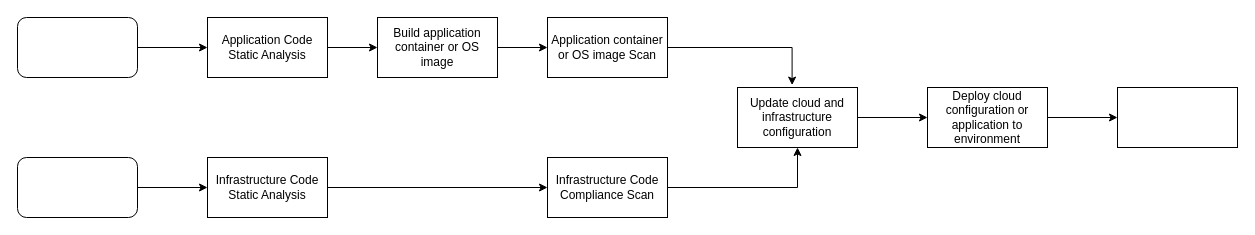
The diagram is 1255 pixels wide and 235 high, and some of its shapes have lost their labels. The shapes that lost their labels are listed below. From the top down, each one's centre as x and y in pixels, then its label:
At point (77, 47): "Application code or OS change".
At point (1177, 117): "Post-deployment compliance scan".
At point (77, 187): "Infrastructure code change".
